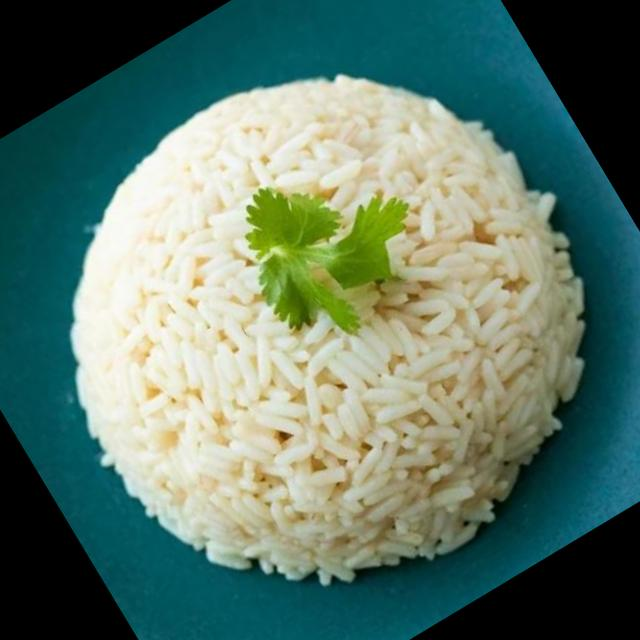rice: (67, 71, 588, 574)
